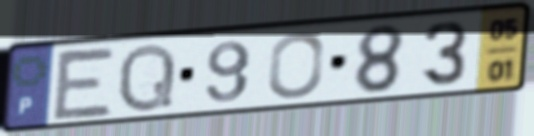3: (418, 19, 473, 88)
8: (353, 21, 408, 96)
9: (202, 38, 253, 104)
E: (50, 45, 120, 123)
O: (265, 29, 327, 101)
Q: (114, 40, 179, 115)
